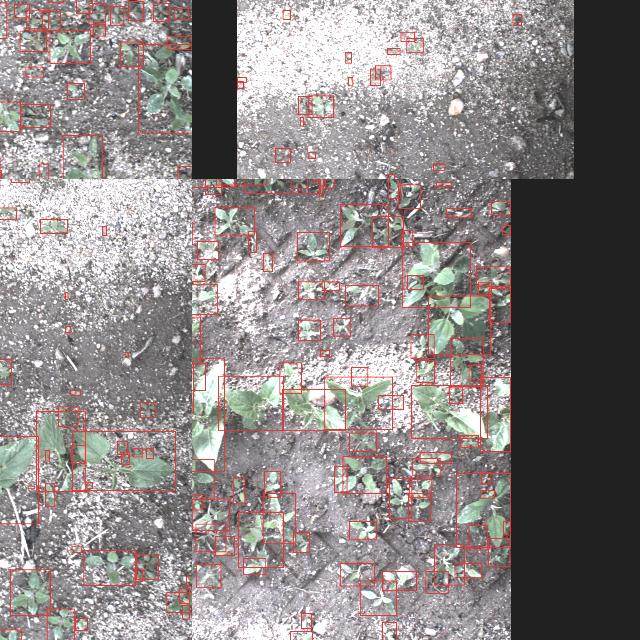crop: (72, 430, 175, 490), (411, 384, 487, 438), (36, 410, 84, 490), (324, 376, 392, 428), (192, 357, 223, 470), (218, 376, 282, 430), (0, 435, 38, 522), (282, 388, 344, 430), (480, 377, 510, 451)
weed: (138, 44, 192, 132), (402, 242, 470, 306), (456, 472, 510, 546), (428, 294, 490, 354), (238, 512, 282, 566), (340, 204, 388, 246), (10, 569, 50, 615), (62, 134, 102, 179), (83, 550, 135, 584), (262, 492, 296, 542), (342, 456, 386, 492), (450, 338, 482, 387), (50, 29, 90, 62), (359, 580, 396, 614), (434, 544, 464, 584), (192, 498, 228, 530), (214, 208, 254, 235), (388, 478, 412, 518), (372, 215, 402, 247), (46, 608, 74, 640), (297, 232, 329, 260), (195, 523, 225, 551), (192, 459, 213, 499), (339, 562, 373, 586), (192, 283, 217, 313), (344, 284, 378, 306), (382, 570, 416, 590), (490, 288, 510, 322), (476, 266, 510, 286), (20, 104, 50, 126), (279, 362, 301, 392), (488, 538, 510, 566), (408, 492, 430, 520), (0, 101, 20, 131), (196, 563, 220, 587), (411, 334, 434, 358), (348, 432, 376, 451), (120, 42, 142, 66), (308, 95, 332, 117), (136, 554, 158, 578), (398, 184, 420, 208), (19, 30, 45, 50), (166, 592, 192, 612), (348, 520, 376, 538), (426, 571, 448, 593), (469, 524, 487, 550), (39, 218, 67, 234), (412, 458, 440, 474), (298, 320, 320, 340), (408, 479, 432, 497), (264, 470, 280, 496), (298, 282, 324, 298), (57, 406, 77, 426), (26, 10, 48, 28), (416, 360, 434, 382), (196, 241, 218, 259), (454, 563, 482, 577), (88, 2, 105, 24), (378, 395, 404, 409), (42, 10, 60, 30), (350, 366, 368, 386), (243, 557, 265, 573), (214, 536, 233, 554), (168, 35, 192, 49), (192, 362, 204, 389), (332, 318, 350, 336), (192, 317, 199, 363), (419, 452, 451, 462), (293, 532, 309, 552), (334, 466, 346, 492), (66, 82, 84, 98), (153, 3, 169, 21), (232, 478, 244, 502), (128, 0, 142, 20), (0, 358, 11, 383), (382, 621, 396, 640), (110, 6, 124, 24), (297, 95, 311, 113), (71, 445, 85, 463), (44, 482, 54, 506), (205, 179, 221, 194), (0, 629, 21, 640), (289, 630, 312, 640), (492, 202, 511, 214), (274, 148, 290, 162), (406, 38, 422, 52), (140, 402, 156, 416), (448, 386, 462, 402), (468, 364, 482, 380), (407, 275, 423, 289), (0, 2, 6, 38), (460, 434, 478, 446), (177, 165, 192, 179), (388, 179, 399, 198), (76, 0, 92, 13), (446, 208, 472, 216), (14, 3, 28, 17), (376, 65, 390, 79), (0, 207, 16, 219), (192, 263, 203, 280), (262, 253, 272, 271), (248, 230, 256, 252), (93, 21, 105, 35), (478, 282, 492, 294), (26, 66, 42, 76), (370, 68, 380, 84), (301, 612, 311, 628), (322, 280, 338, 290), (402, 230, 412, 246), (192, 494, 202, 509), (38, 163, 47, 179), (75, 618, 87, 630), (174, 8, 188, 18), (400, 31, 414, 41), (179, 588, 189, 602), (117, 440, 127, 454), (290, 179, 307, 187), (181, 604, 189, 618), (480, 489, 494, 497), (512, 13, 522, 24), (504, 520, 511, 534), (134, 568, 142, 580), (121, 452, 129, 464), (482, 472, 491, 482), (432, 162, 443, 170), (344, 52, 352, 62), (282, 9, 290, 19), (133, 448, 143, 456), (146, 447, 154, 457), (386, 48, 399, 54), (502, 224, 510, 233), (324, 179, 333, 187), (319, 179, 323, 196), (436, 182, 452, 186), (186, 575, 192, 585), (44, 450, 50, 460), (319, 350, 329, 356), (237, 76, 246, 82), (236, 80, 242, 88), (72, 545, 80, 551), (386, 173, 393, 179), (70, 390, 80, 394), (308, 152, 314, 158), (348, 76, 352, 85), (86, 482, 92, 488), (64, 326, 70, 332), (102, 226, 106, 234), (64, 292, 68, 298), (300, 116, 302, 125), (124, 352, 128, 356), (27, 486, 33, 488)
